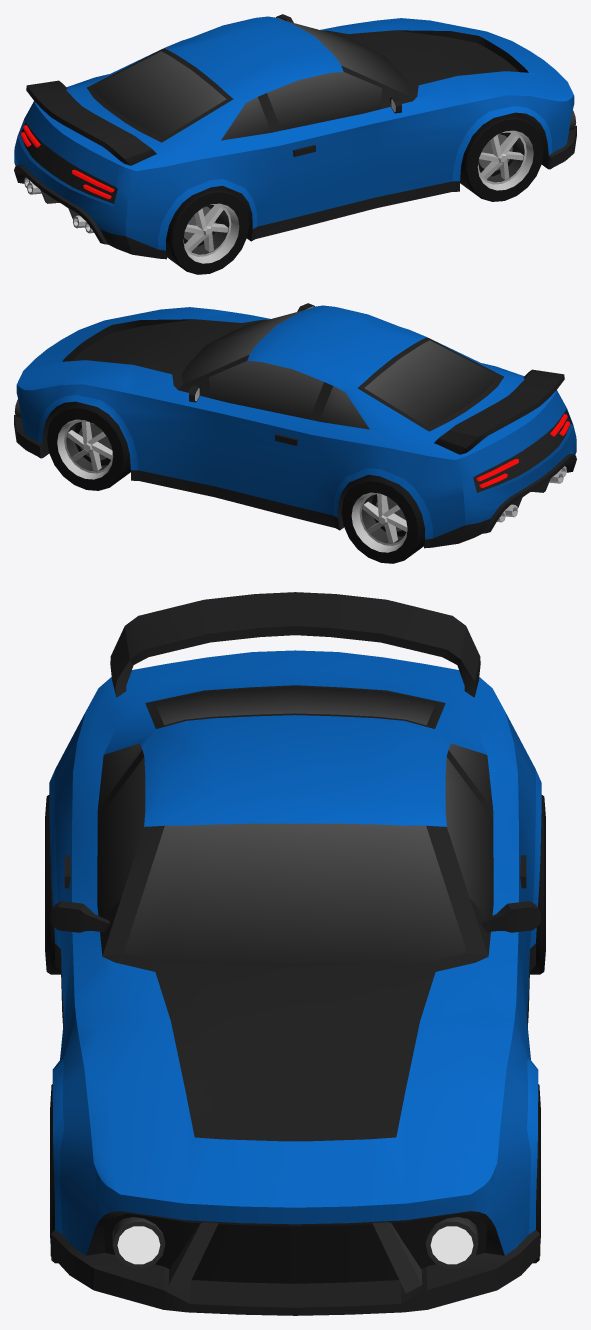
Rendered from Car_112.glb.
The picture shows the model from 3 angles, top to bottom: view 1: azimuth 30°, elevation 25°; view 2: azimuth 150°, elevation 25°; view 3: azimuth 270°, elevation 25°; orthographic projection. The views are drawn at different scales.
Visible parts, largest first — view 1: Car_112, wheel_1_Car_112_Wheel_1R, wheel_3_Car_112_Wheel_2R; view 2: Car_112, wheel_0_Car_112_Wheel_1L, wheel_2_Car_112_Wheel_2L; view 3: Car_112, wheel_2_Car_112_Wheel_2L, wheel_3_Car_112_Wheel_2R.
Boxes of the visible parts, box(x1,y1,x2,y2) form: Car_112: box(14, 14, 576, 259); wheel_1_Car_112_Wheel_1R: box(460, 112, 543, 201); wheel_3_Car_112_Wheel_2R: box(165, 186, 249, 274); Car_112: box(14, 303, 576, 548); wheel_0_Car_112_Wheel_1L: box(47, 401, 130, 490); wheel_2_Car_112_Wheel_2L: box(341, 475, 425, 563); Car_112: box(49, 592, 541, 1315); wheel_2_Car_112_Wheel_2L: box(530, 795, 545, 974); wheel_3_Car_112_Wheel_2R: box(45, 795, 60, 974).
Size of the model in its own units: 4.89 by 1.45 by 2.09.
2 materials, 2 textured.
